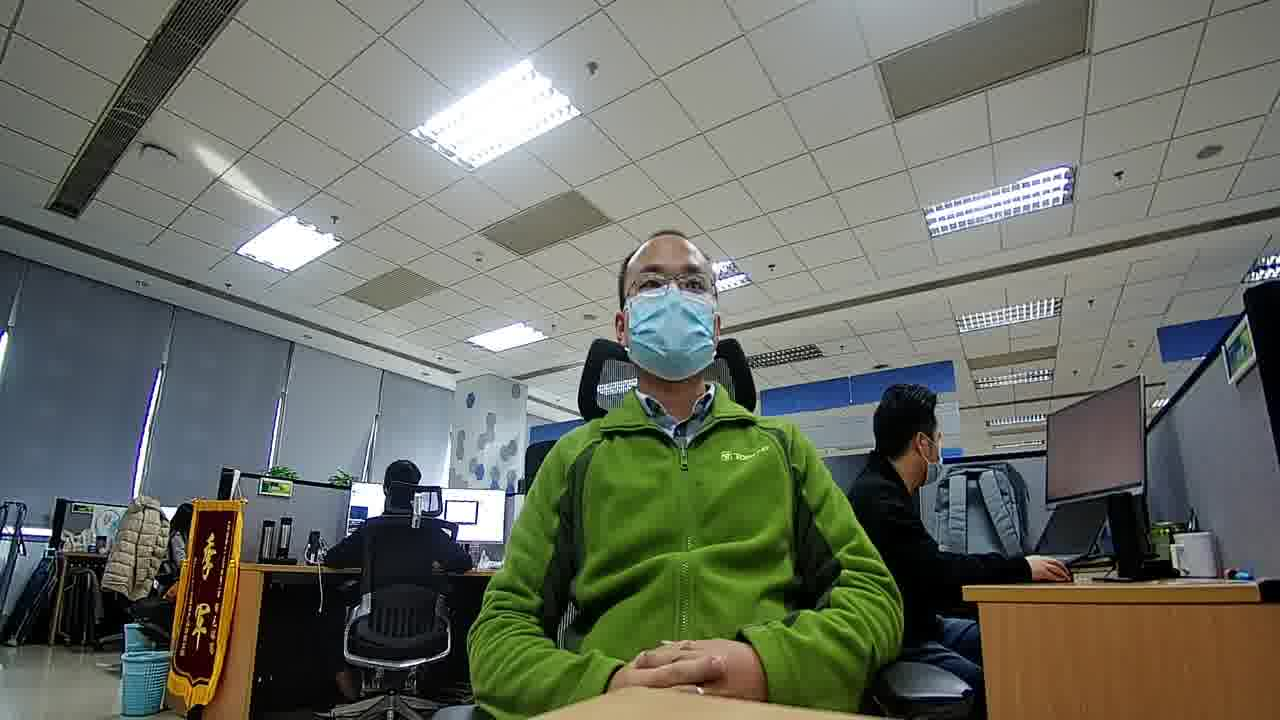face: (622, 247, 720, 380)
mask: (619, 280, 719, 380)
person: (530, 221, 831, 493), (841, 377, 961, 534), (360, 456, 436, 537), (164, 496, 195, 549)
